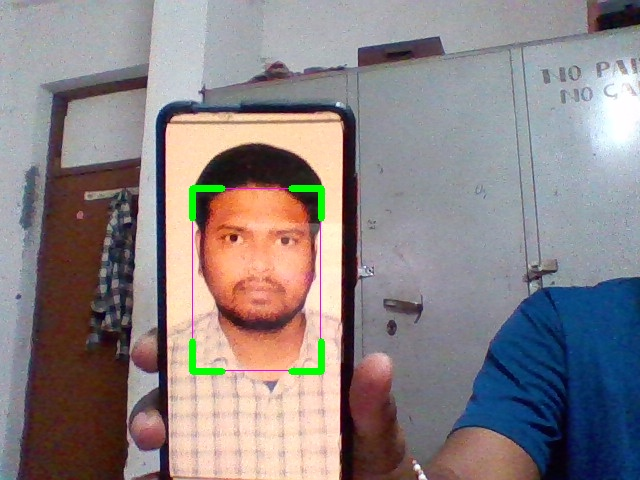fake: (192, 188, 321, 371)
